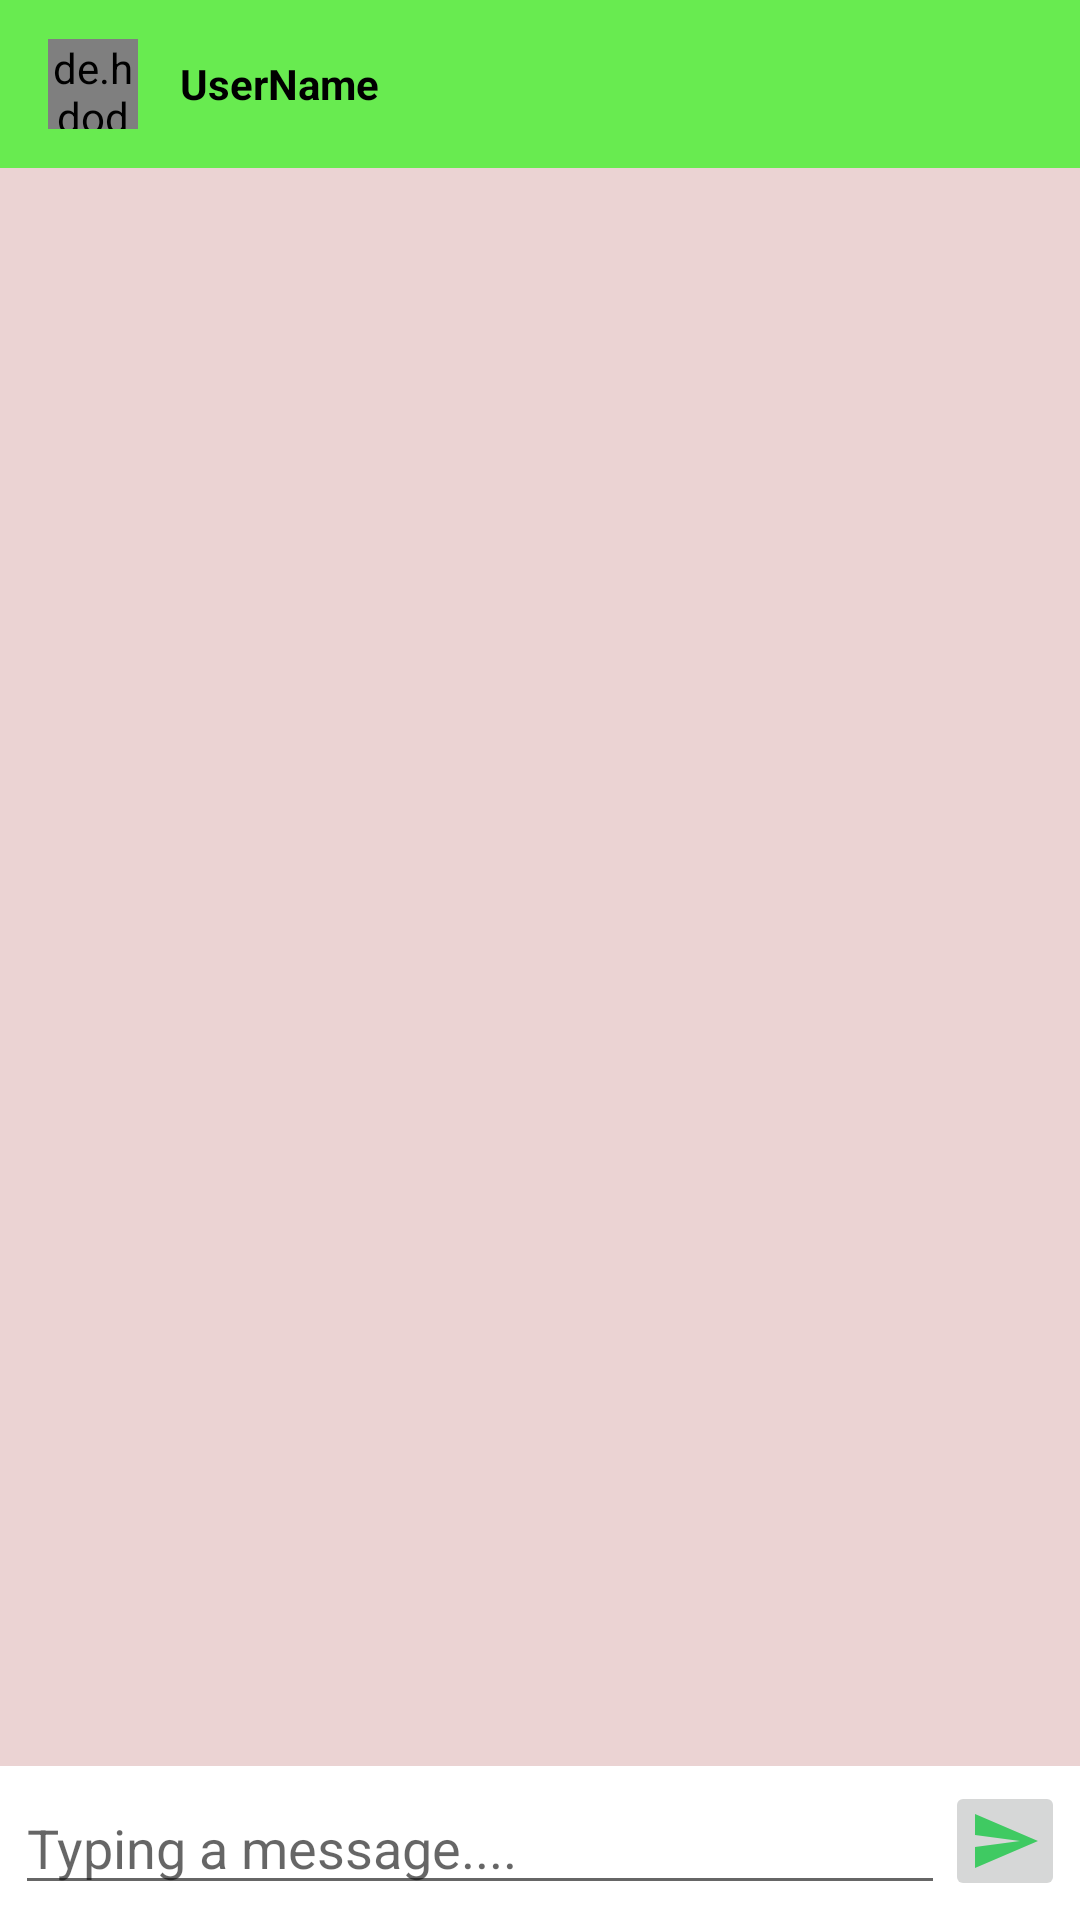

Icon bounding boxes for this 1080x1920 phone screenshot, format (x1, y1, x2, y2):
send: (957, 1799, 1053, 1883)
